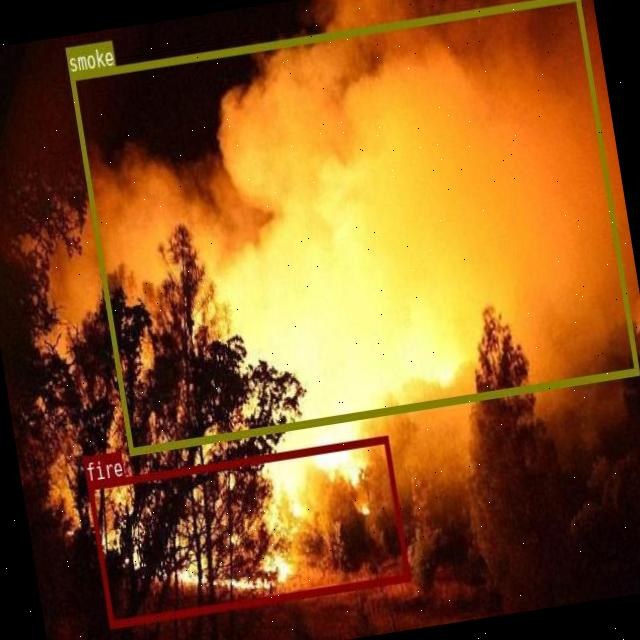fire: (87, 436, 410, 627)
smoke: (69, 0, 638, 454)
